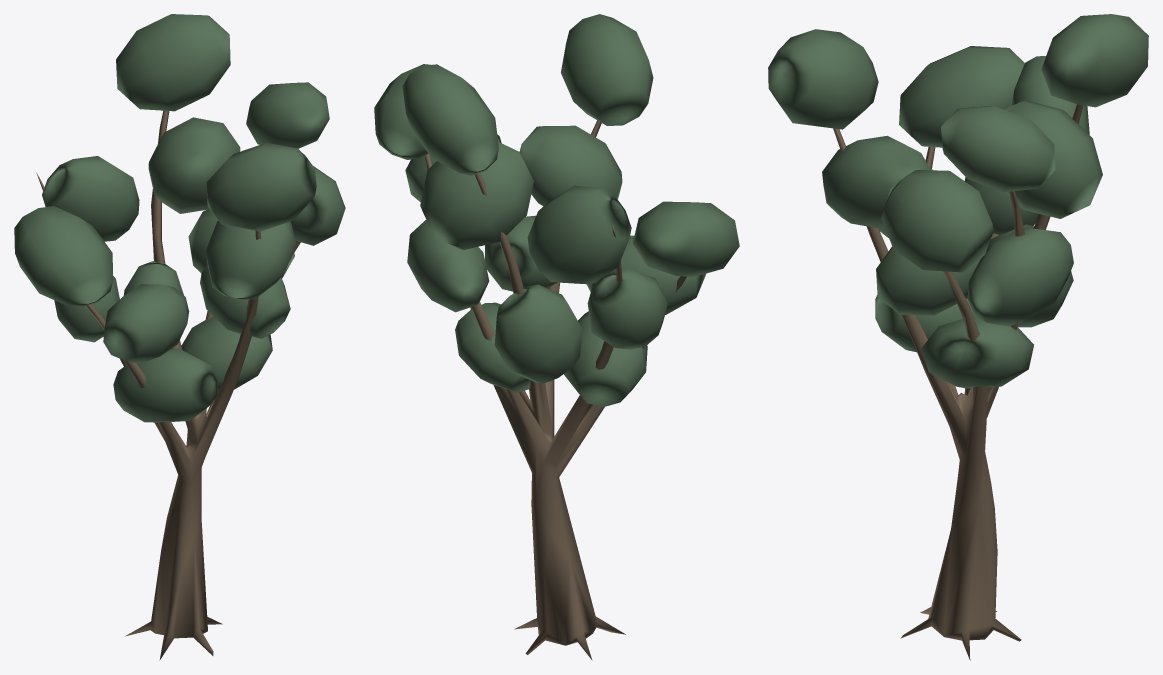
Rendered from Genevrier_1_Niveau2.fbx.
3 renders of one model, left to right at view 1: azimuth 30°, elevation 25°; view 2: azimuth 150°, elevation 25°; view 3: azimuth 270°, elevation 25°, orthographic. The views are drawn at different scales.
Parts seen in each view (by area): view 1: Genevrier_1_Niveau2_Jeu; view 2: Genevrier_1_Niveau2_Jeu; view 3: Genevrier_1_Niveau2_Jeu.
Part boxes in pixels (box(x1,y1,x2,y2)): Genevrier_1_Niveau2_Jeu: box(14, 14, 345, 660); Genevrier_1_Niveau2_Jeu: box(374, 14, 739, 660); Genevrier_1_Niveau2_Jeu: box(768, 14, 1148, 660).
Size of the model in its own units: 155 by 266 by 140.
